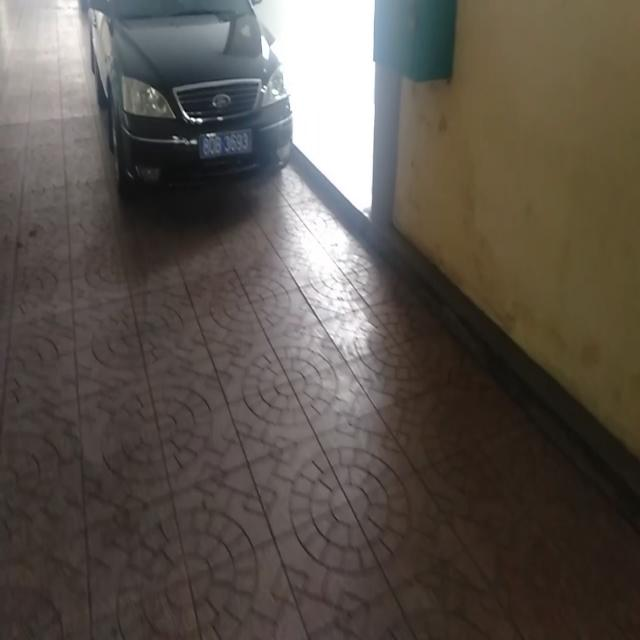bien_xanh: (200, 131, 254, 160)
